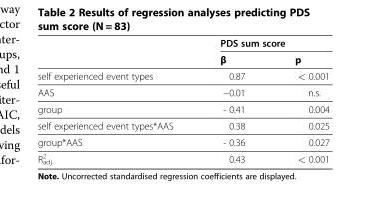table: (36, 36, 328, 164)
table column: (36, 36, 196, 164), (196, 36, 269, 164), (269, 36, 328, 164)
table column header: (36, 36, 328, 67)
table row: (36, 50, 328, 67), (36, 83, 328, 100), (36, 100, 328, 117), (36, 67, 328, 83), (36, 117, 328, 133), (36, 133, 328, 149), (36, 149, 328, 164), (36, 36, 328, 50)
table spanning cell: (196, 36, 328, 50)
